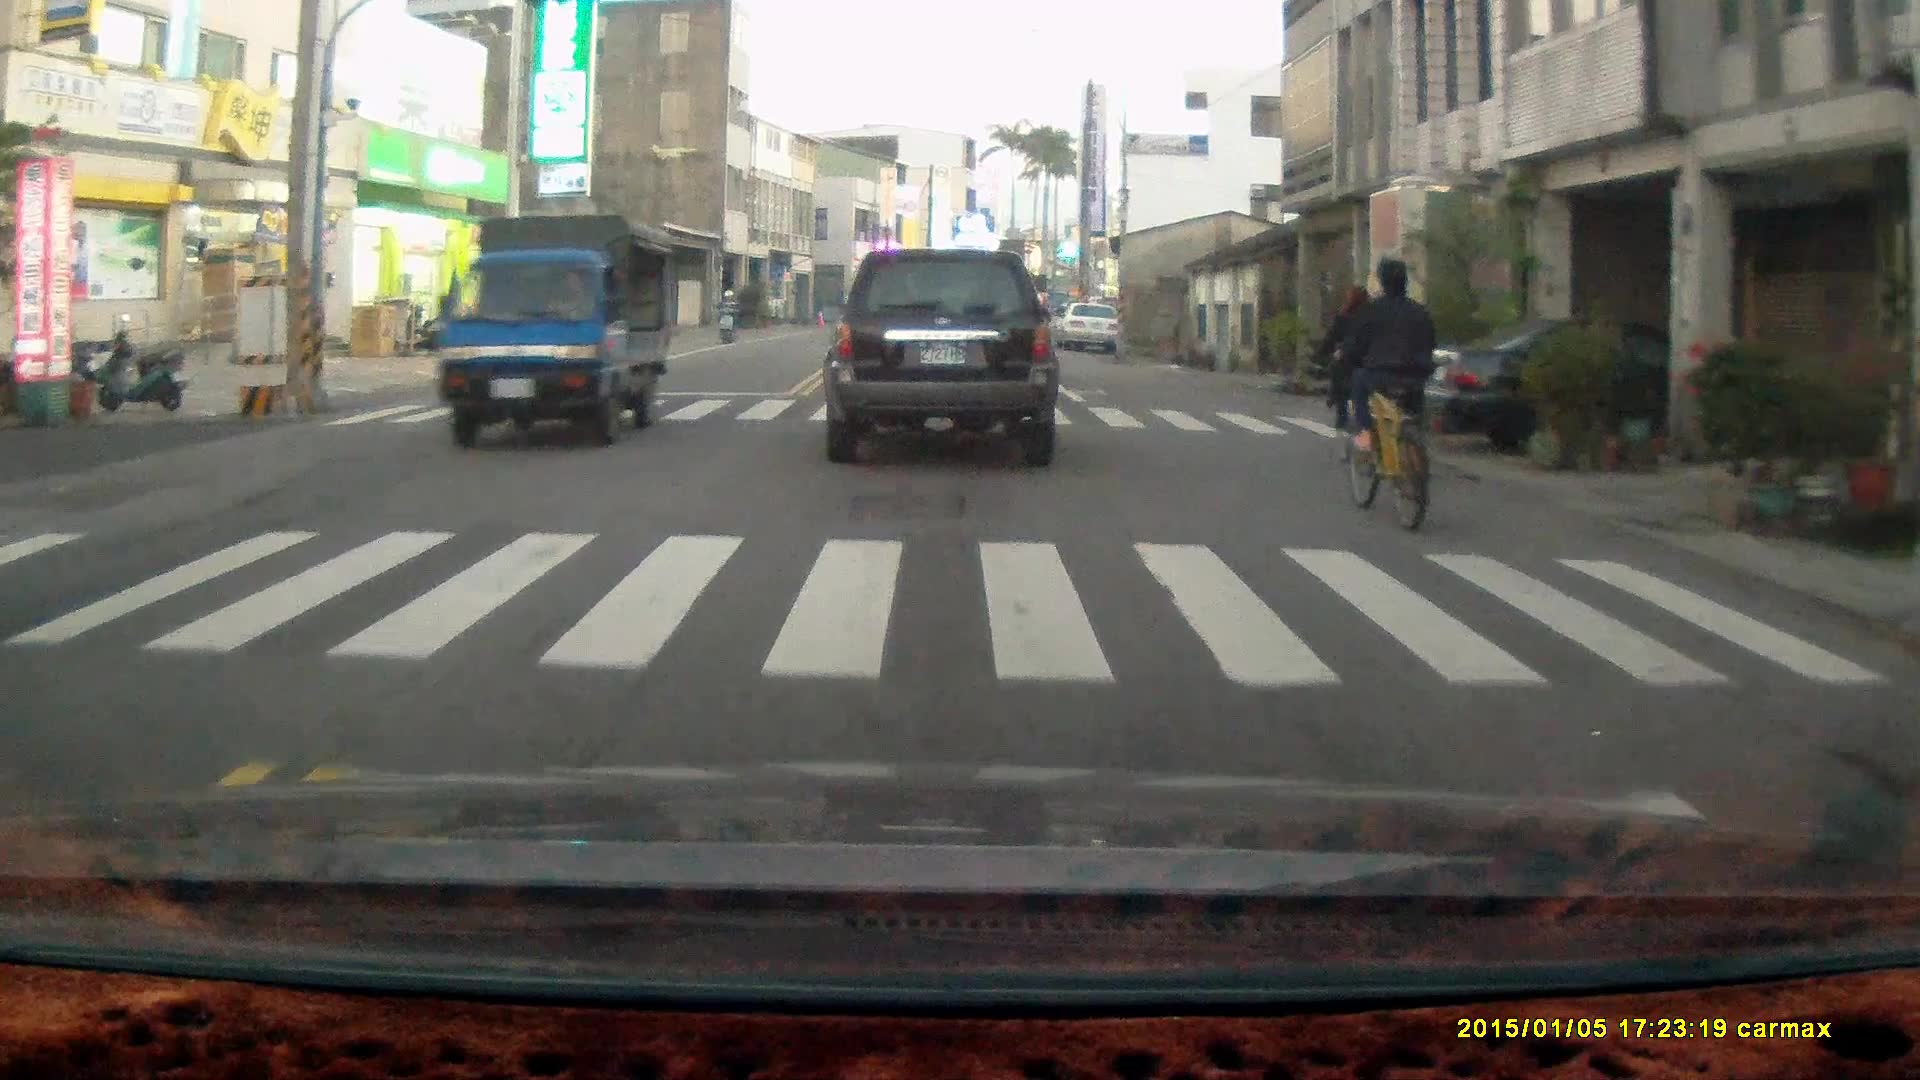rider: (1334, 256, 1438, 533), (1319, 277, 1389, 468), (714, 286, 739, 345)
vehicle: (423, 210, 686, 449), (1419, 318, 1827, 465), (822, 247, 1062, 469), (1058, 304, 1124, 355)
